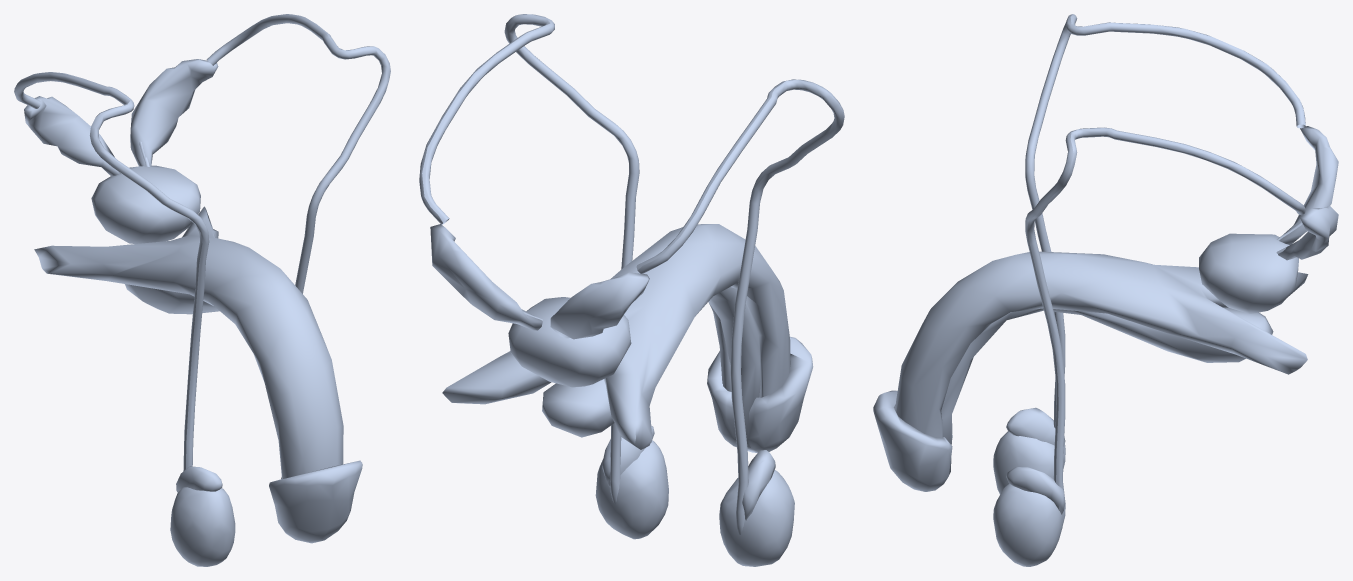
Rendered from male.glb.
The picture shows the model from 3 angles, left to right: view 1: azimuth 30°, elevation 25°; view 2: azimuth 150°, elevation 25°; view 3: azimuth 270°, elevation 25°; orthographic projection. The views are drawn at different scales.
Parts seen in each view (by area): view 1: Corpus cavernosum of penis, Prostate, Ductus deferens.001x, Glans penis, Seminal gland, Ductus deferens, Testis, Seminal gland.001x, Corpus spongiosum of penis, Epididymis.001x; view 2: Corpus cavernosum of penis, Ductus deferens.001x, Ductus deferens, Prostate, Corpus spongiosum of penis, Glans penis, Testis, Testis.001x, Seminal gland, Seminal gland.001x, Epididymis.001x, Epididymis; view 3: Corpus cavernosum of penis, Prostate, Ductus deferens, Ductus deferens.001x, Corpus spongiosum of penis, Glans penis, Testis.001x, Testis, Seminal gland.001x, Seminal gland, Epididymis, Epididymis.001x.
Boxes of the visible parts, <box> form: Corpus cavernosum of penis: <box>34,206,343,479</box>; Prostate: <box>91,165,200,243</box>; Ductus deferens.001x: <box>14,72,209,470</box>; Glans penis: <box>269,460,362,543</box>; Seminal gland: <box>130,59,218,166</box>; Ductus deferens: <box>206,14,390,293</box>; Testis: <box>170,487,235,566</box>; Seminal gland.001x: <box>24,96,119,176</box>; Corpus spongiosum of penis: <box>125,284,219,314</box>; Epididymis.001x: <box>176,466,222,492</box>; Corpus cavernosum of penis: <box>442,224,790,449</box>; Ductus deferens.001x: <box>636,79,844,534</box>; Ductus deferens: <box>419,14,639,504</box>; Prostate: <box>508,297,631,387</box>; Corpus spongiosum of penis: <box>542,287,760,447</box>; Glans penis: <box>707,336,813,452</box>; Testis: <box>719,470,794,566</box>; Testis.001x: <box>595,440,668,539</box>; Seminal gland: <box>430,224,542,330</box>; Seminal gland.001x: <box>550,272,649,339</box>; Epididymis.001x: <box>742,450,775,520</box>; Epididymis: <box>602,426,654,487</box>; Corpus cavernosum of penis: <box>894,251,1308,437</box>; Prostate: <box>1199,233,1298,313</box>; Ductus deferens: <box>1025,127,1305,525</box>; Ductus deferens.001x: <box>1025,14,1305,467</box>; Corpus spongiosum of penis: <box>941,307,1273,474</box>; Glans penis: <box>873,390,952,491</box>; Testis.001x: <box>993,484,1062,566</box>; Testis: <box>993,431,1063,494</box>; Seminal gland.001x: <box>1279,126,1338,244</box>; Seminal gland: <box>1278,206,1338,260</box>; Epididymis: <box>1006,467,1065,514</box>; Epididymis.001x: <box>1006,407,1065,445</box>.
Bounding box in the file's own units: 0.7868 × 1.16 × 1.06.
